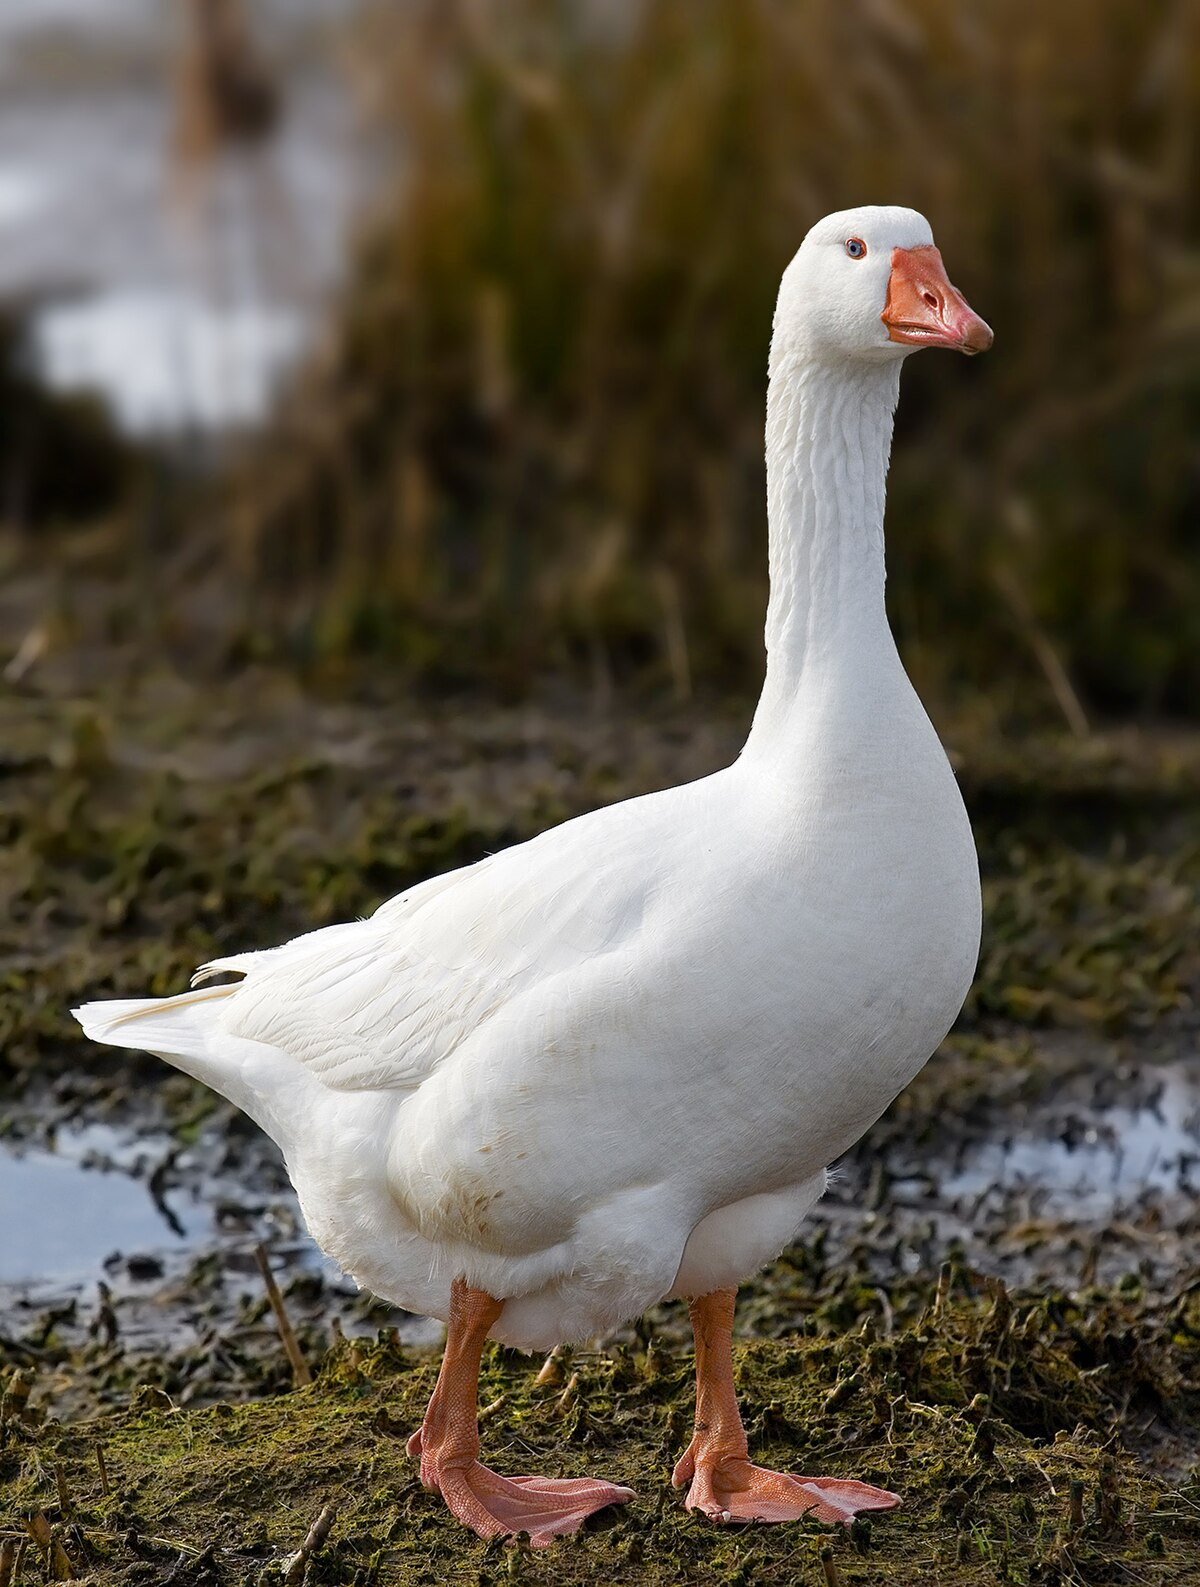goose: (122, 198, 1011, 1475)
